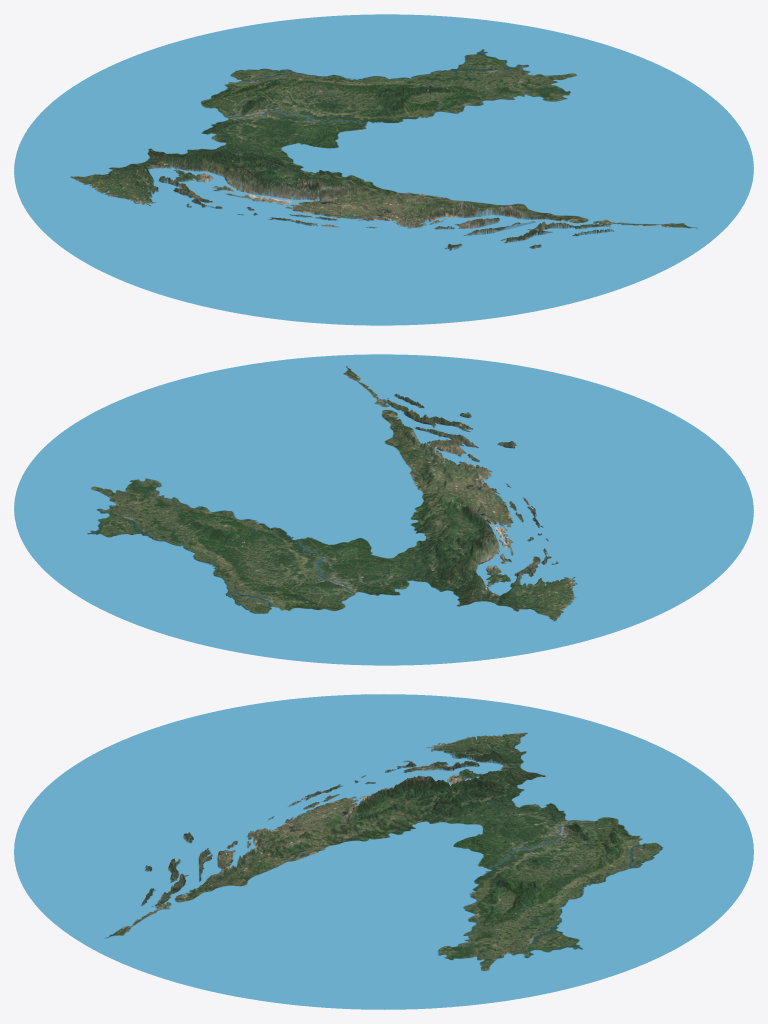
The model's file is HRV-previa-terrain.glb.
3 renders of one model, top to bottom at view 1: azimuth 30°, elevation 25°; view 2: azimuth 150°, elevation 25°; view 3: azimuth 270°, elevation 25°, orthographic.
Visible parts, largest first — view 1: Croácia; view 2: Croácia; view 3: Croácia.
Boxes of the visible parts, x1,y1,x2,y2 form: Croácia: [14, 14, 753, 325]; Croácia: [14, 354, 753, 665]; Croácia: [14, 694, 753, 1009].
Bounding box in the file's own units: 2.29 × 0.0576 × 2.27.
Materials: 1 (1 with a texture image).
